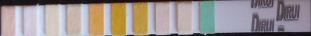color 1: (2, 7, 13, 36)
color 10: (200, 3, 213, 31)
color 2: (24, 6, 36, 36)
color 3: (46, 6, 58, 36)
color 4: (67, 6, 79, 36)
color 5: (90, 5, 103, 36)
color 6: (112, 4, 125, 34)
color 7: (134, 3, 146, 34)
color 8: (156, 3, 169, 33)
color 9: (178, 3, 191, 33)
